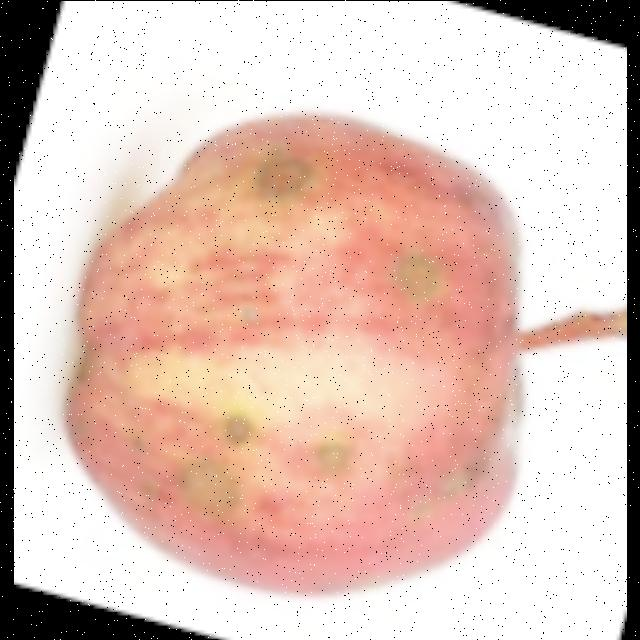Apel Tidak Segar: (55, 105, 541, 610)
